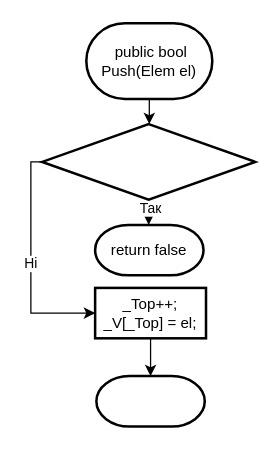
This 278x449 diagram has some shape labels left out. The shapes that lost their labels are listed below. From the top down, each one's centre as x and y in pixels, then its label:
the point at 148,161: _Top == _V.Length - 1
the point at 149,400: return true
